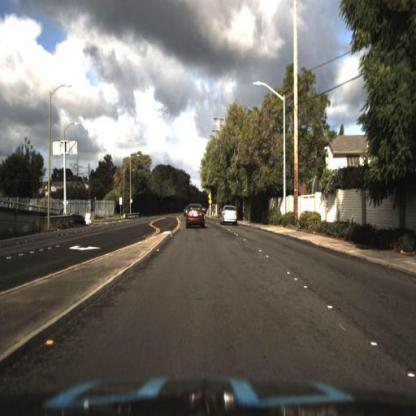car: (185, 201, 208, 230), (220, 205, 239, 228)
